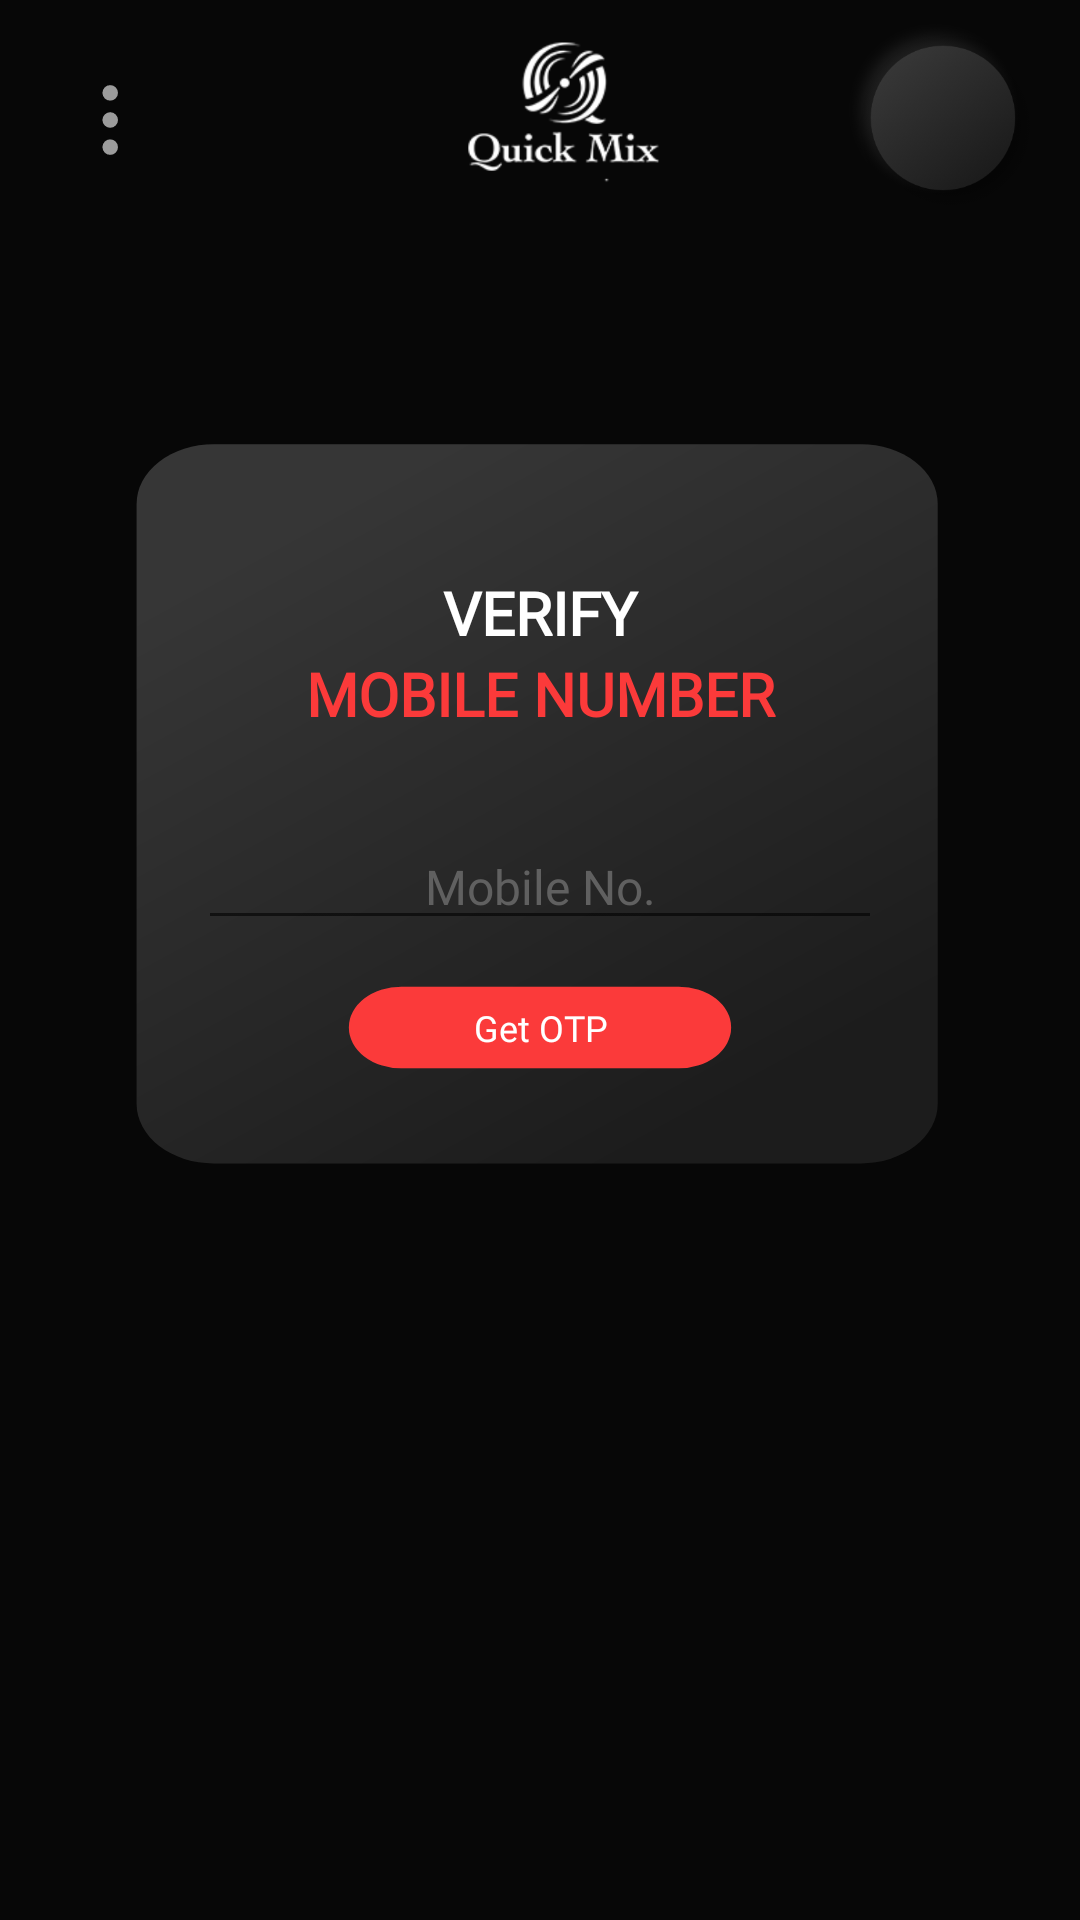

Icon click points for this 1080 x 1920 phone screenshot, format [x,y]:
menu: [110,120]
